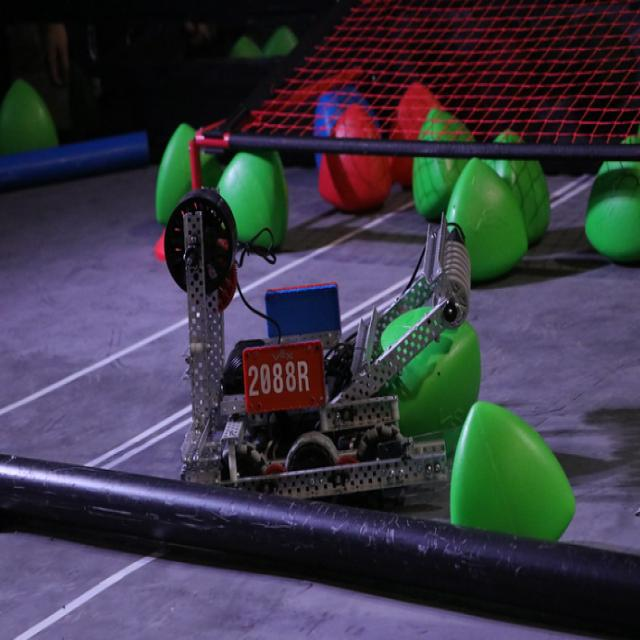License-Plates: (242, 346, 325, 409)
